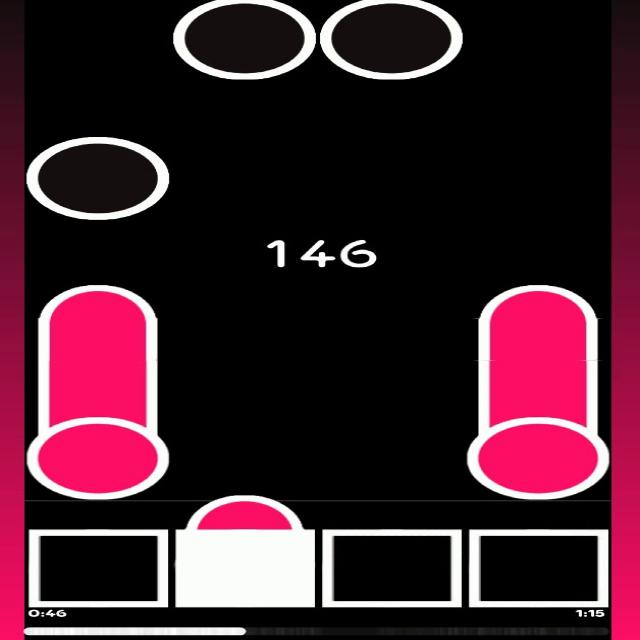end_hold: (480, 274, 602, 326), (38, 276, 162, 326), (186, 486, 305, 529)
note: (26, 134, 173, 222), (318, 1, 466, 80), (172, 0, 316, 79)
start_hold: (26, 396, 170, 499), (467, 406, 611, 502)
